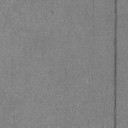surface scratch: (113, 0, 118, 128)
